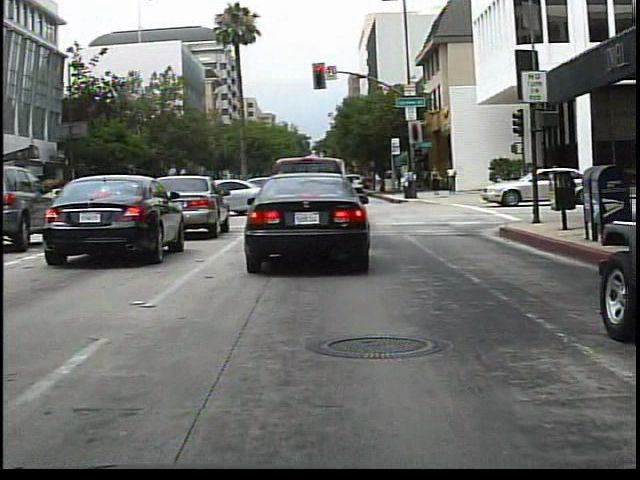person: (427, 161, 446, 199), (443, 163, 461, 198)
